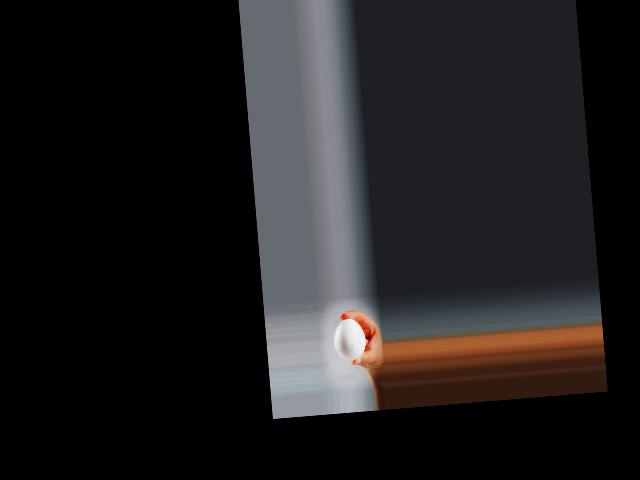egg: (333, 316, 366, 361)
